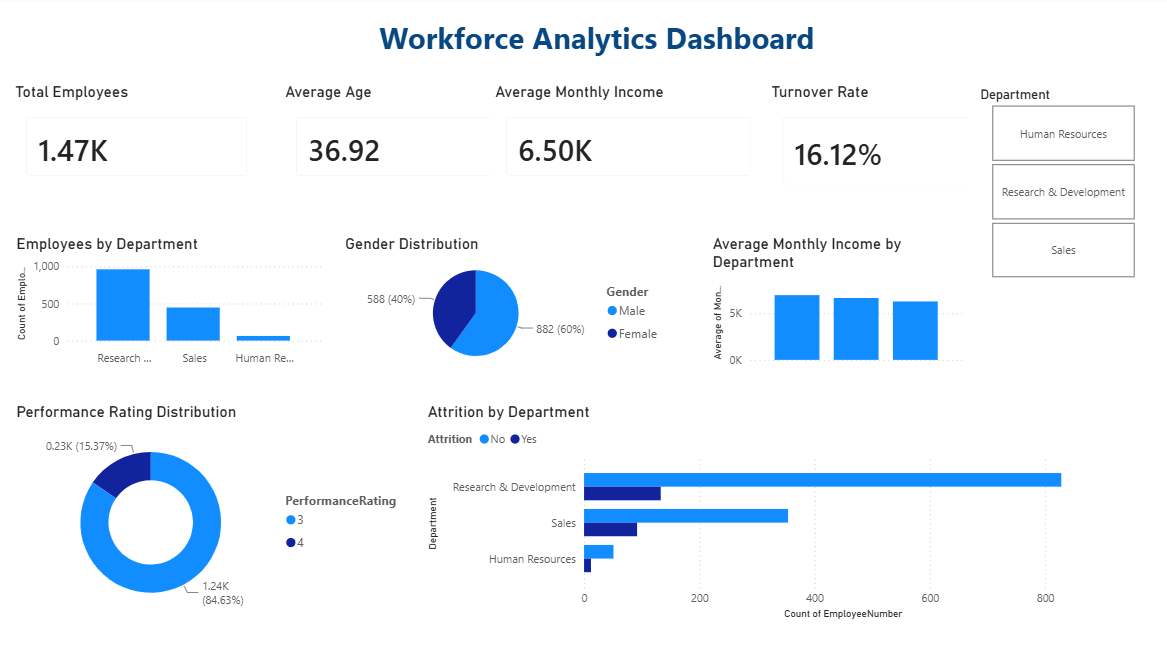

Layout of this report page (visuals, bound fields, positions):
{"tool":"powerbi","page":{"name":"Page 1","canvas":[1280,720],"ordinal":0},"visuals":[{"type":"cardVisual","title":"Total Employees","fields":{"Data":["CountNonNull(Employee.EmployeeNumber)"]},"box":[15.7,94,275.4,120.1],"z":0},{"type":"cardVisual","title":"Average Age","fields":{"Data":["Avg(Employee.Age)"]},"box":[309.3,94,310.6,120.1],"z":1000},{"type":"cardVisual","title":"Average Monthly Income","fields":{"Data":["Avg(Employee.MonthlyIncome)"]},"box":[539,94,301.5,120.1],"z":2000},{"type":"cardVisual","title":"Turnover Rate","fields":{"Data":["Employee.Turnover Rate"]},"box":[840.5,94,351.1,129.2],"z":3000},{"type":"clusteredColumnChart","title":"Employees by Department","fields":{"Category":["Employee.Department"],"Y":["CountNonNull(Employee.EmployeeNumber)"]},"box":[15.7,260.8,342.5,150.8],"z":4000},{"type":"clusteredBarChart","title":"Attrition by Department","fields":{"Category":["Employee.Department"],"Y":["CountNonNull(Employee.EmployeeNumber)"],"Series":["Employee.Attrition"]},"box":[465,443,757.2,241.9],"z":5000},{"type":"pieChart","title":"Gender Distribution","fields":{"Category":["Employee.Gender"],"Y":["CountNonNull(Employee.EmployeeNumber)"]},"box":[375.5,260.8,361.3,150.8],"z":6000},{"type":"clusteredColumnChart","title":"Average Monthly Income by Department","fields":{"Category":["Employee.Department"],"Y":["Avg(Employee.MonthlyIncome)"]},"box":[776,260.8,284.3,150.8],"z":7000},{"type":"donutChart","title":"Performance Rating Distribution","fields":{"Category":["Employee.PerformanceRating"],"Y":["CountNonNull(Employee.EmployeeNumber)"]},"box":[15.7,443,438.3,241.9],"z":8000},{"type":"slicer","fields":{"Values":["Employee.Department"]},"box":[1060.4,94.3,205.8,219.9],"z":9000},{"type":"textbox","box":[309.3,19.6,691.7,74.4],"z":10000}]}

Visuals, with their boxes in screenshot pixels (x1, y1, x2, y2), scaled from the page's 1280x720 canvas onto the 1167x651 screenshot:
"Total Employees" cardVisual: select_region(14, 85, 265, 194)
"Average Age" cardVisual: select_region(282, 85, 565, 194)
"Average Monthly Income" cardVisual: select_region(491, 85, 766, 194)
"Turnover Rate" cardVisual: select_region(766, 85, 1086, 202)
"Employees by Department" clusteredColumnChart: select_region(14, 236, 327, 372)
"Attrition by Department" clusteredBarChart: select_region(424, 401, 1114, 619)
"Gender Distribution" pieChart: select_region(342, 236, 672, 372)
"Average Monthly Income by Department" clusteredColumnChart: select_region(707, 236, 967, 372)
"Performance Rating Distribution" donutChart: select_region(14, 401, 414, 619)
slicer - Employee.Department: select_region(967, 85, 1154, 284)
textbox: select_region(282, 18, 913, 85)
